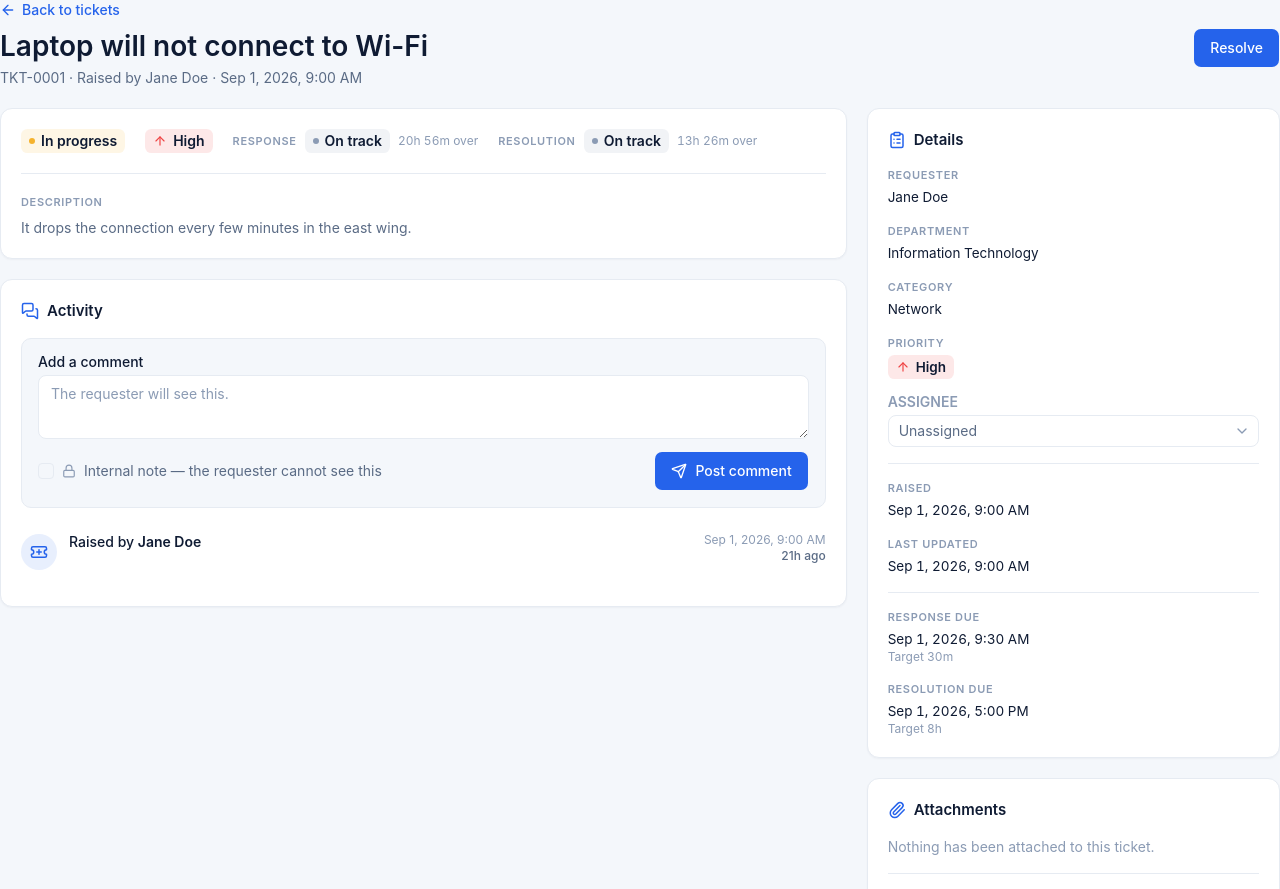
Test: TicketDetailPage — transitions › refuses to resolve without saying what was done
Click the button "Resolve": click(1237, 48) left=1193, top=28, right=1279, bottom=68
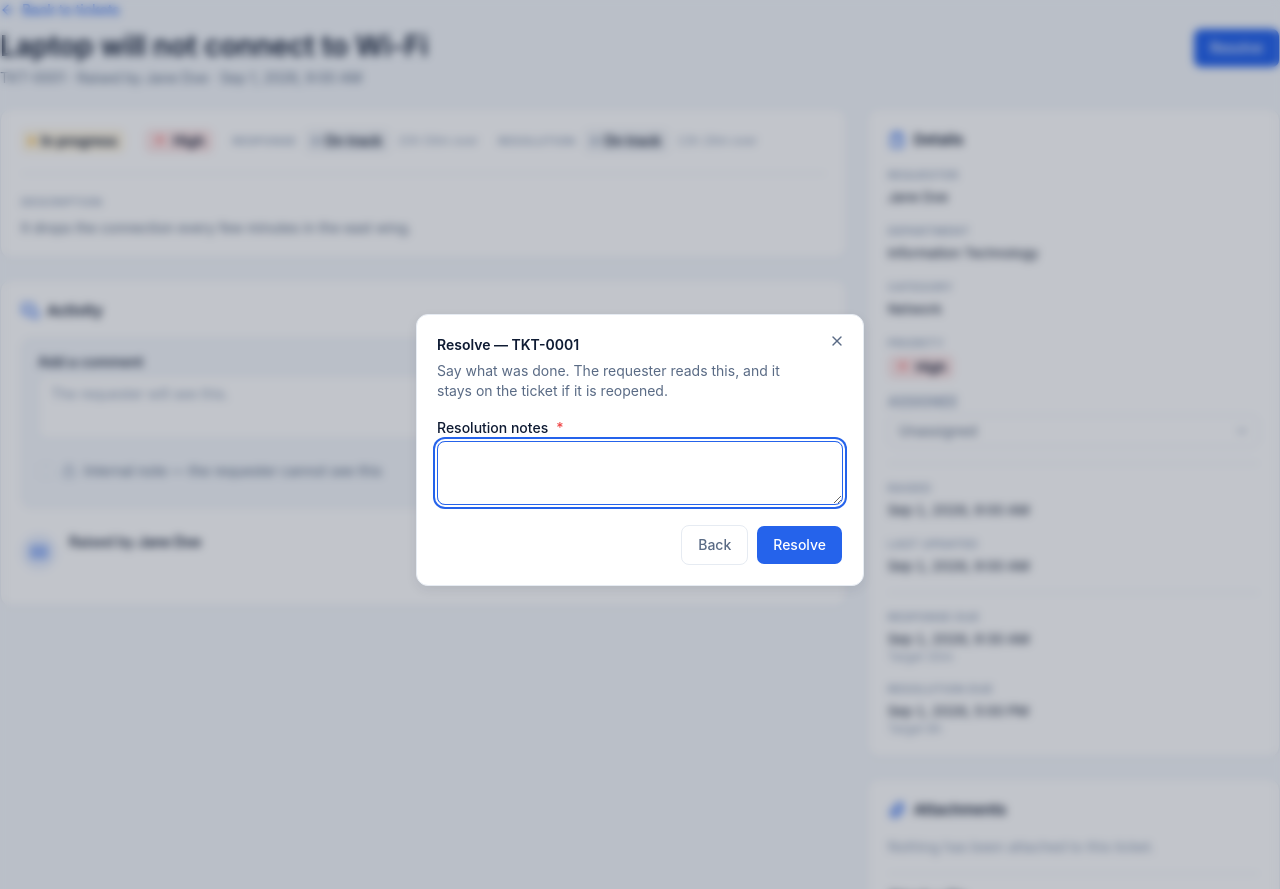
Click the button "Resolve": click(800, 545) left=756, top=525, right=843, bottom=565
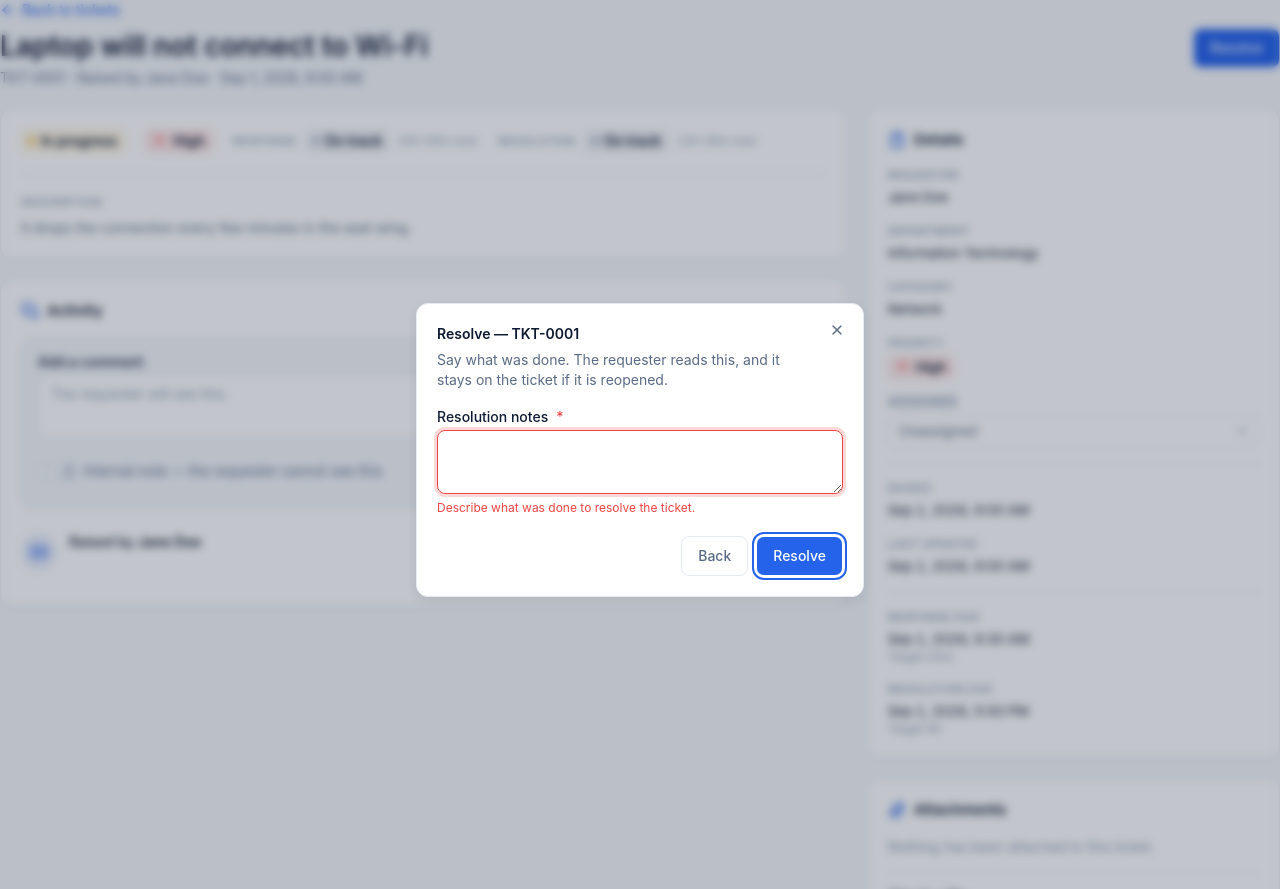
Expected: the text "Describe what was done to resolve the ticket." is shown, left=437, top=500, right=695, bottom=515
